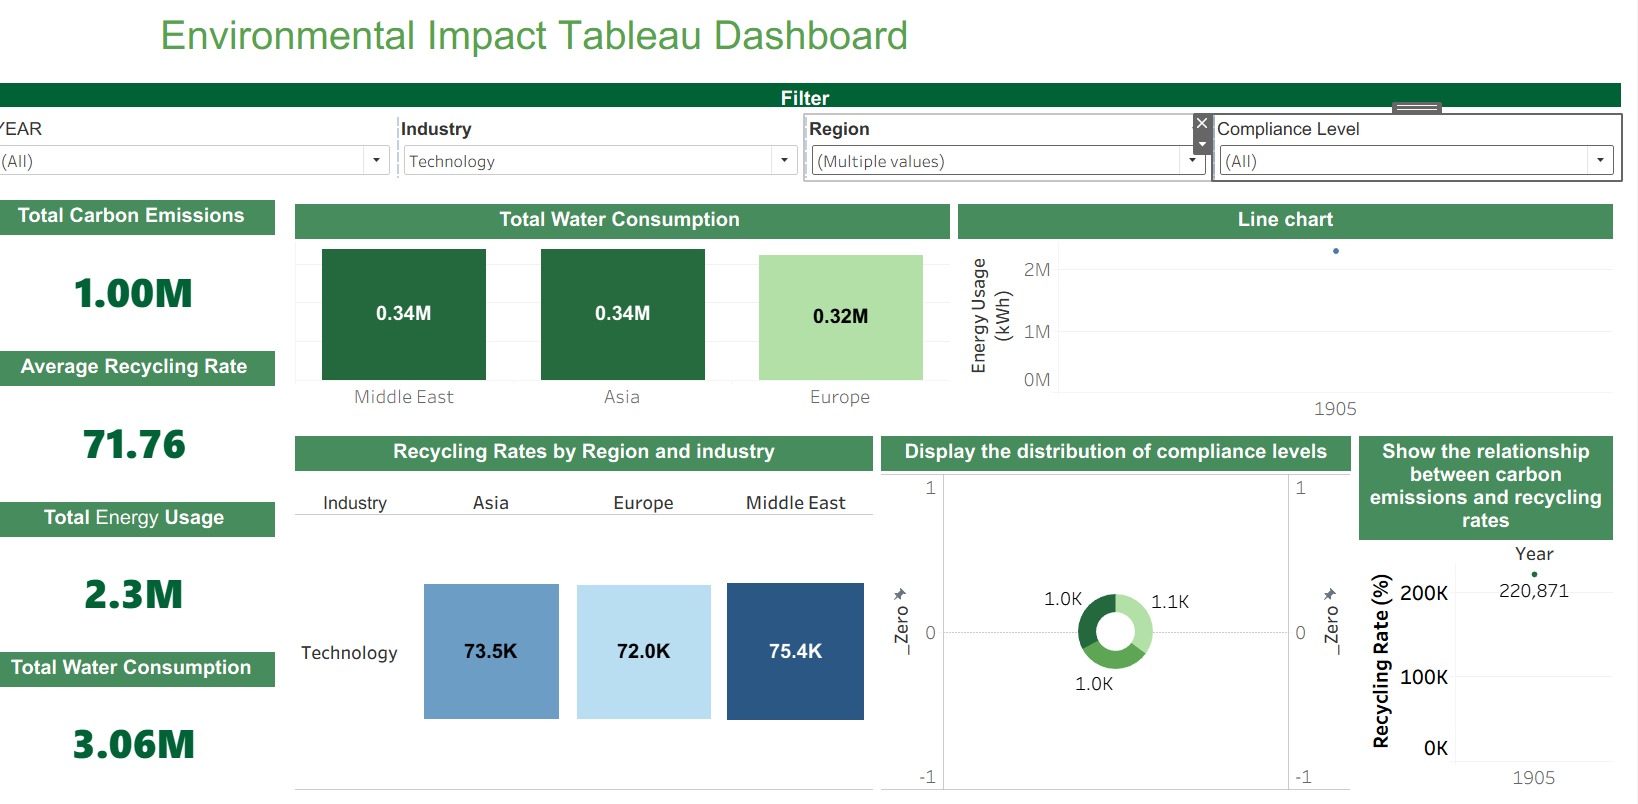

Layout of this report page (visuals, bound fields, positions):
{"tool":"tableau","page":{"name":"Dashboard 1","canvas":[1000,1000],"units":"permille","ordinal":1},"visuals":[{"type":"image","param":"C:/Users/lenovo/Desktop/Logo.jpg","box":[5,9.8,106.6,72.1]},{"type":"text","box":[111.6,9.8,883.4,72.1]},{"type":"legend","title":"Show the relationship between carbon emissions and recycling rates","param":"[federated.0vk26bf1uomb1y1b5bevq179mrny].[sum:Carbon Emissions (kg):qk]","box":[899.1,51.3,87.8,122.2]},{"type":"worksheet","title":"Filter","mark":"Automatic","box":[7.5,96.6,985.1,39.1]},{"type":"filter","title":"Filter","param":"[federated.0vk26bf1uomb1y1b5bevq179mrny].[yr:Year:ok]","box":[10,140.6,245,79.5]},{"type":"filter","title":"Filter","param":"[federated.0vk26bf1uomb1y1b5bevq179mrny].[none:Industry:nk]","box":[255,140.6,245,79.5]},{"type":"filter","title":"Filter","param":"[federated.0vk26bf1uomb1y1b5bevq179mrny].[none:Region:nk]","box":[500,140.6,245,79.5]},{"type":"filter","title":"Filter","param":"[federated.0vk26bf1uomb1y1b5bevq179mrny].[none:Compliance Level:nk]","box":[745,140.6,245,79.5]},{"type":"worksheet","title":"Total Carbon Emissions","mark":"Automatic","box":[10,239.6,125.9,185.8]},{"type":"worksheet","title":"Total Water Consumption graph","mark":"Automatic","rows":["Carbon Emissions (kg)"],"cols":["Region"],"box":[143.4,244.5,422.1,379]},{"type":"worksheet","title":"Line Chart","mark":"Automatic","rows":["Energy Usage (kWh)"],"cols":["Year"],"box":[565.5,244.5,422.1,379]},{"type":"worksheet","title":"Average Recycling Rate","mark":"Automatic","box":[10,425.4,125.9,185.8]},{"type":"worksheet","title":"Total Energy Usage","mark":"Automatic","box":[10,611.2,125.9,184.6]},{"type":"worksheet","title":"Recycling Rates by Region and industry","mark":"Automatic","rows":["Industry"],"cols":["Region"],"box":[143.4,633.3,580.4,342.3]},{"type":"worksheet","title":"Display the distribution of compliance levels","mark":"Pie","rows":["Calculation_694398805640347649","Calculation_694398805640347649"],"box":[723.8,633.3,146.5,342.3]},{"type":"worksheet","title":"Show the relationship between carbon emissions and recycling rates","mark":"Automatic","rows":["Recycling Rate (%)"],"cols":["Year"],"box":[870.3,633.3,117.2,342.3]},{"type":"worksheet","title":"Total Water Consumption","mark":"Automatic","box":[10,795.8,125.9,184.6]}]}

Visuals, with their boxes on the dashboard's canvas, which has no fixed pixel size, in thousandths of its width and height (x1, y1, x2, y2). These are canvas units, not pixel positions in the 1638x804 screenshot, which may show the page scaled, cropped or inside an application window:
image: {"x1": 5, "y1": 10, "x2": 112, "y2": 82}
text: {"x1": 112, "y1": 10, "x2": 995, "y2": 82}
"Show the relationship between carbon emissions and recycling rates" legend: {"x1": 899, "y1": 51, "x2": 987, "y2": 174}
"Filter" worksheet: {"x1": 8, "y1": 97, "x2": 993, "y2": 136}
"Filter" filter: {"x1": 10, "y1": 141, "x2": 255, "y2": 220}
"Filter" filter: {"x1": 255, "y1": 141, "x2": 500, "y2": 220}
"Filter" filter: {"x1": 500, "y1": 141, "x2": 745, "y2": 220}
"Filter" filter: {"x1": 745, "y1": 141, "x2": 990, "y2": 220}
"Total Carbon Emissions" worksheet: {"x1": 10, "y1": 240, "x2": 136, "y2": 425}
"Total Water Consumption graph" worksheet: {"x1": 143, "y1": 244, "x2": 566, "y2": 624}
"Line Chart" worksheet: {"x1": 566, "y1": 244, "x2": 988, "y2": 624}
"Average Recycling Rate" worksheet: {"x1": 10, "y1": 425, "x2": 136, "y2": 611}
"Total Energy Usage" worksheet: {"x1": 10, "y1": 611, "x2": 136, "y2": 796}
"Recycling Rates by Region and industry" worksheet: {"x1": 143, "y1": 633, "x2": 724, "y2": 976}
"Display the distribution of compliance levels" worksheet (Pie marks): {"x1": 724, "y1": 633, "x2": 870, "y2": 976}
"Show the relationship between carbon emissions and recycling rates" worksheet: {"x1": 870, "y1": 633, "x2": 988, "y2": 976}
"Total Water Consumption" worksheet: {"x1": 10, "y1": 796, "x2": 136, "y2": 980}
